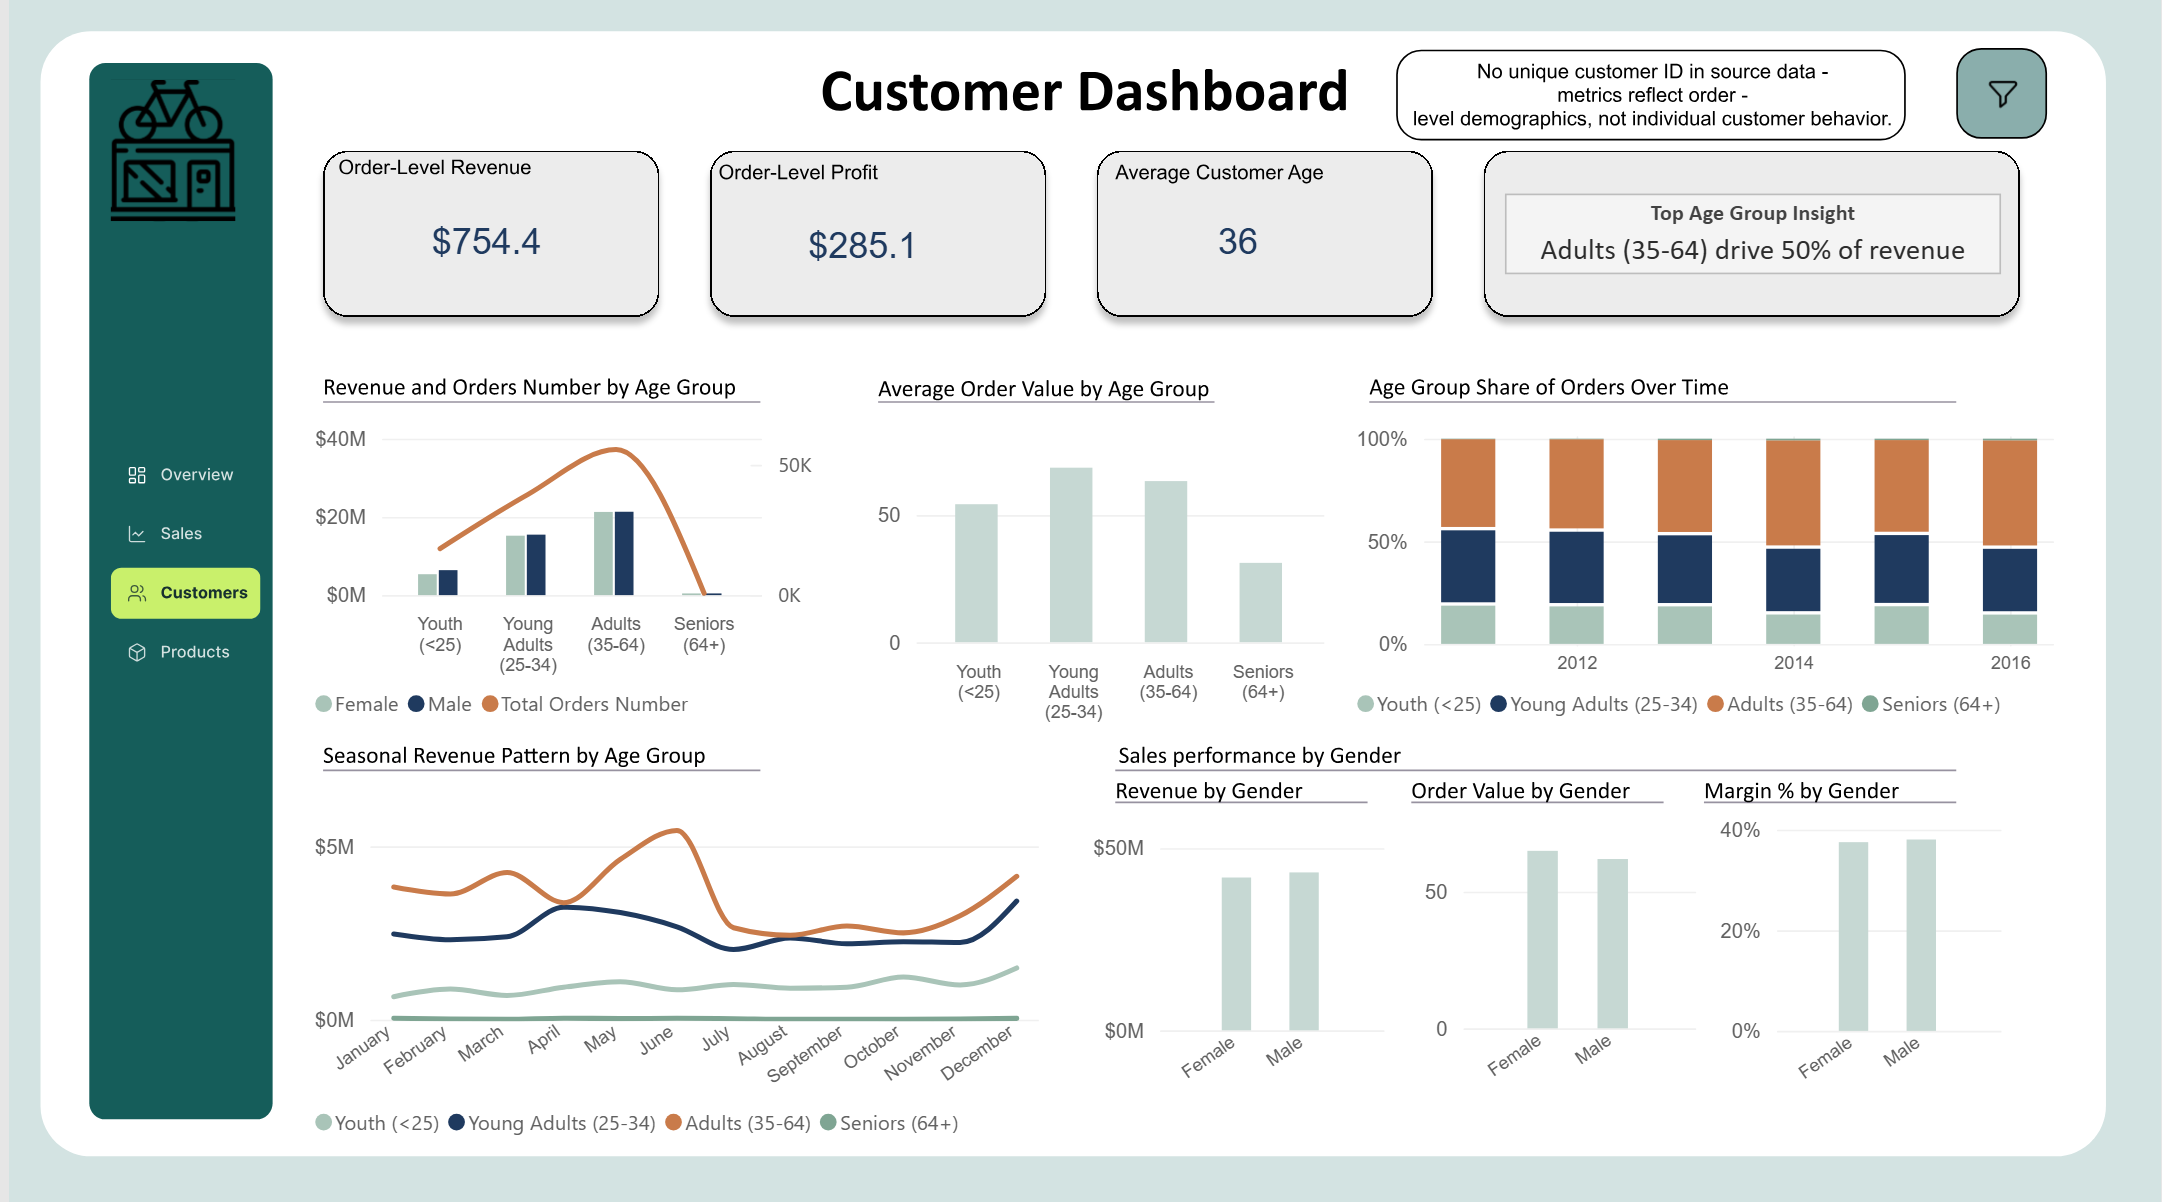

This screenshot's page, from the dashboard's own definition file:
{"tool":"powerbi","page":{"name":"Customer Overview","canvas":[1280,720],"ordinal":3},"visuals":[{"type":"card","title":"Card_avg_customer_age","fields":{"Values":["_Measures.Avg cutomer age"]},"box":[670.7,120,120,51.2],"z":0},{"type":"card","title":"Card_avg_order_revenue","fields":{"Values":["_Measures.Avg Order Revenue"]},"box":[219.2,115.8,129.2,60],"z":1000},{"type":"lineClusteredColumnComboChart","fields":{"Category":["Sales.Age_Group"],"Series":["Sales.Customer_Gender"],"Y":["Sum(Sales.Revenue)"],"Y2":["_Measures.Total Orders Number"]},"box":[165,238.3,330,210],"z":2000},{"type":"card","fields":{"Values":["_Measures.Avg Order Profit"]},"box":[445,116.4,126.2,63.8],"z":3000},{"type":"actionButton","box":[61.2,301.8,87.6,23.5],"z":4000},{"type":"actionButton","box":[61.2,377.1,87.6,27.1],"z":5000},{"type":"actionButton","title":"Filter button","box":[1157.7,33.1,55.4,45.4],"z":6000},{"type":"hundredPercentStackedColumnChart","fields":{"Category":["Date.Date Hierarchy.Year","Date.Quarter","Date.MonthName","Date.Day"],"Series":["Sales.Age_Group"],"Y":["Sum(Sales.Order_Quantity)"]},"box":[785,238.3,446.7,210],"z":8000},{"type":"clusteredColumnChart","fields":{"Category":["Sales.Customer_Gender"],"Y":["_Measures.Total Sales Revenue"]},"box":[627.7,460,205.7,205],"z":9000},{"type":"clusteredColumnChart","fields":{"Category":["Sales.Customer_Gender"],"Y":["_Measures.Profit Margin %"]},"box":[1000.8,470.8,200,194.6],"z":10000},{"type":"clusteredColumnChart","fields":{"Category":["Sales.Customer_Gender"],"Y":["_Measures.Avg Order Value"]},"box":[825.4,459.2,193.6,205],"z":11000},{"type":"cardVisual","fields":{"Data":["_Measures.Top Age Group Insight"]},"box":[873.7,101.6,327.2,78.7],"z":12000},{"type":"clusteredColumnChart","fields":{"Category":["Sales.Age_Group"],"Y":["_Measures.Avg Order Value"]},"box":[500,238.3,298.3,210],"z":13000},{"type":"lineChart","fields":{"Category":["Date.Date Hierarchy.MonthName"],"Series":["Sales.Age_Group"],"Y":["Sum(Sales.Revenue)"]},"box":[165,460,463.3,236.7],"z":14000},{"type":"shape","box":[66.9,272.5,75.6,20.6],"z":15000}]}

Visuals, with their boxes in screenshot pixels (x1, y1, x2, y2), scaled from the page's 1280x720 canvas onto the 2162x1202 screenshot:
"Card_avg_customer_age" card: 1133 200 1336 286
"Card_avg_order_revenue" card: 370 193 588 293
lineClusteredColumnComboChart - Sales.Age_Group x Sales.Customer_Gender: 279 398 836 748
card - _Measures.Avg Order Profit: 752 194 965 301
actionButton: 103 504 251 543
actionButton: 103 630 251 675
"Filter button" actionButton: 1955 55 2049 131
hundredPercentStackedColumnChart - Date.Date Hierarchy.Year x Date.Quarter: 1326 398 2080 748
clusteredColumnChart - Sales.Customer_Gender x _Measures.Total Sales Revenue: 1060 768 1408 1110
clusteredColumnChart - Sales.Customer_Gender x _Measures.Profit Margin %: 1690 786 2028 1111
clusteredColumnChart - Sales.Customer_Gender x _Measures.Avg Order Value: 1394 767 1721 1109
cardVisual - _Measures.Top Age Group Insight: 1476 170 2028 301
clusteredColumnChart - Sales.Age_Group x _Measures.Avg Order Value: 845 398 1348 748
lineChart - Date.Date Hierarchy.MonthName x Sales.Age_Group: 279 768 1061 1163
shape: 113 455 241 489
